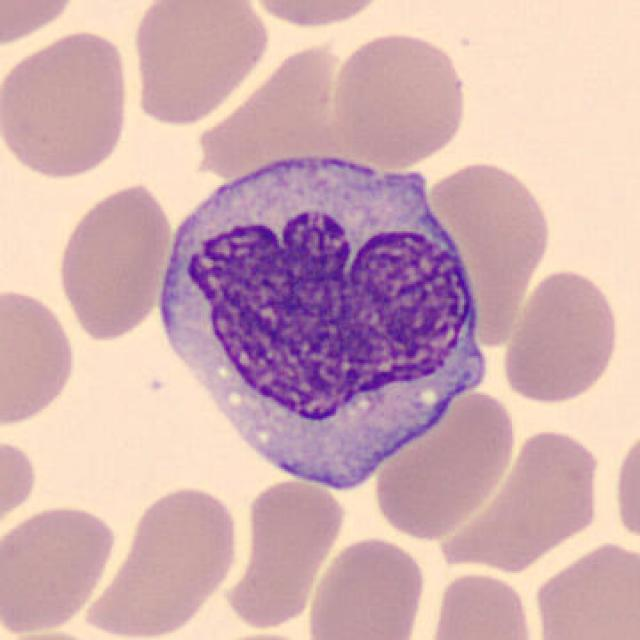Monocyte: (142, 134, 498, 497)
RBC: (432, 421, 606, 573), (78, 479, 241, 640), (425, 155, 555, 335), (368, 386, 517, 541), (0, 27, 135, 184), (327, 28, 471, 169), (54, 178, 174, 342), (124, 0, 274, 129), (498, 264, 622, 408), (0, 499, 119, 636), (304, 534, 430, 640), (0, 282, 80, 430), (528, 536, 638, 640), (240, 476, 350, 577), (423, 567, 540, 640), (242, 0, 393, 32), (0, 432, 41, 536), (0, 0, 83, 49), (610, 423, 640, 550), (197, 627, 325, 640), (1, 627, 126, 640)
